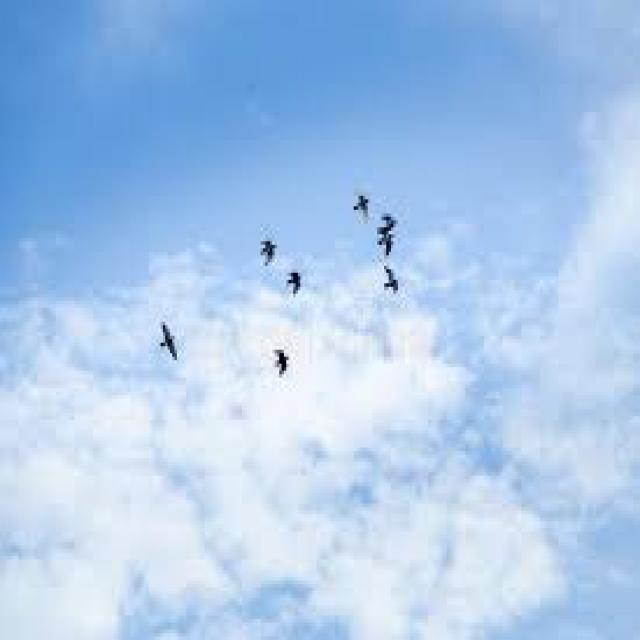bird: (154, 299, 194, 369), (266, 334, 300, 390), (344, 170, 374, 226), (282, 256, 306, 318), (366, 223, 400, 256), (255, 227, 276, 266), (380, 270, 400, 304), (382, 198, 398, 229)
